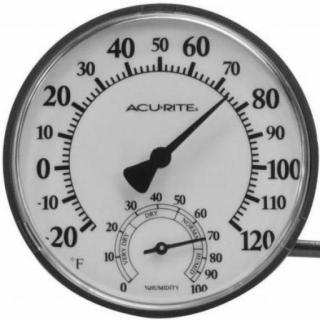gauge: (0, 0, 320, 320), (217, 213, 259, 245), (71, 214, 101, 243), (148, 144, 172, 172), (217, 91, 234, 105), (154, 241, 168, 256), (197, 234, 210, 244)
